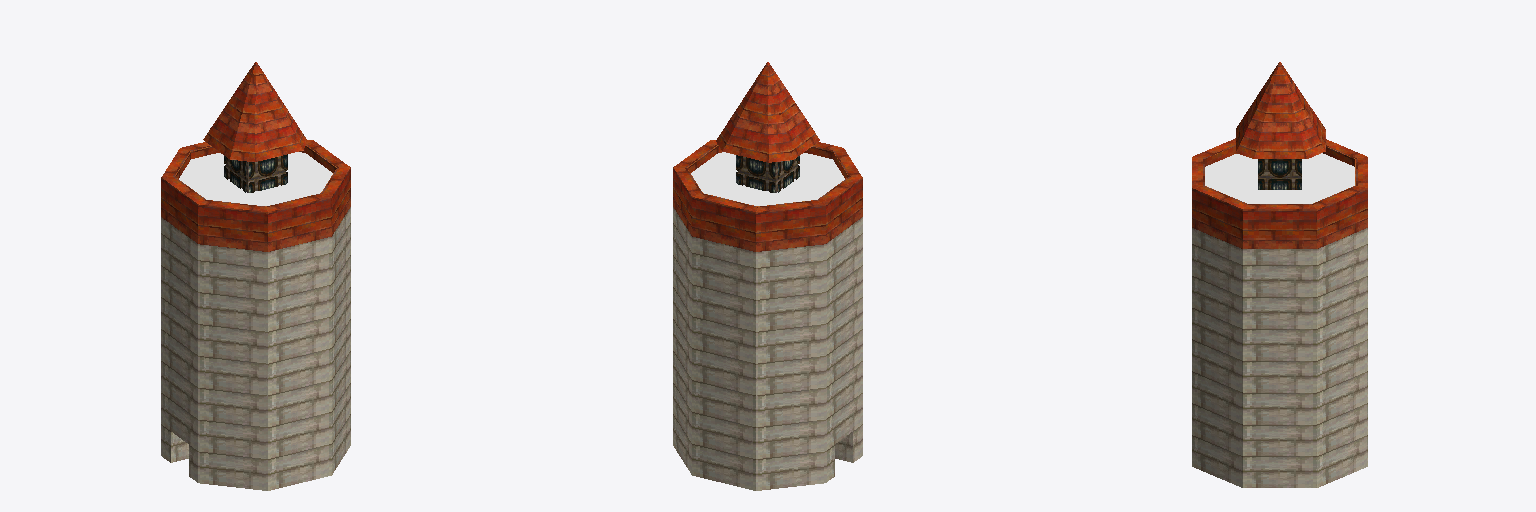
3 renders of one model, left to right at view 1: azimuth 30°, elevation 25°; view 2: azimuth 150°, elevation 25°; view 3: azimuth 270°, elevation 25°, orthographic.
Visible parts, largest first — view 1: world_root; view 2: world_root; view 3: world_root.
Part boxes in pixels (left/top/right/bottom): world_root: left=161, top=62, right=350, bottom=490; world_root: left=673, top=62, right=862, bottom=490; world_root: left=1192, top=62, right=1367, bottom=487.
Size of the model in its own units: 125 by 306 by 125.
Materials: 6 (4 with a texture image).